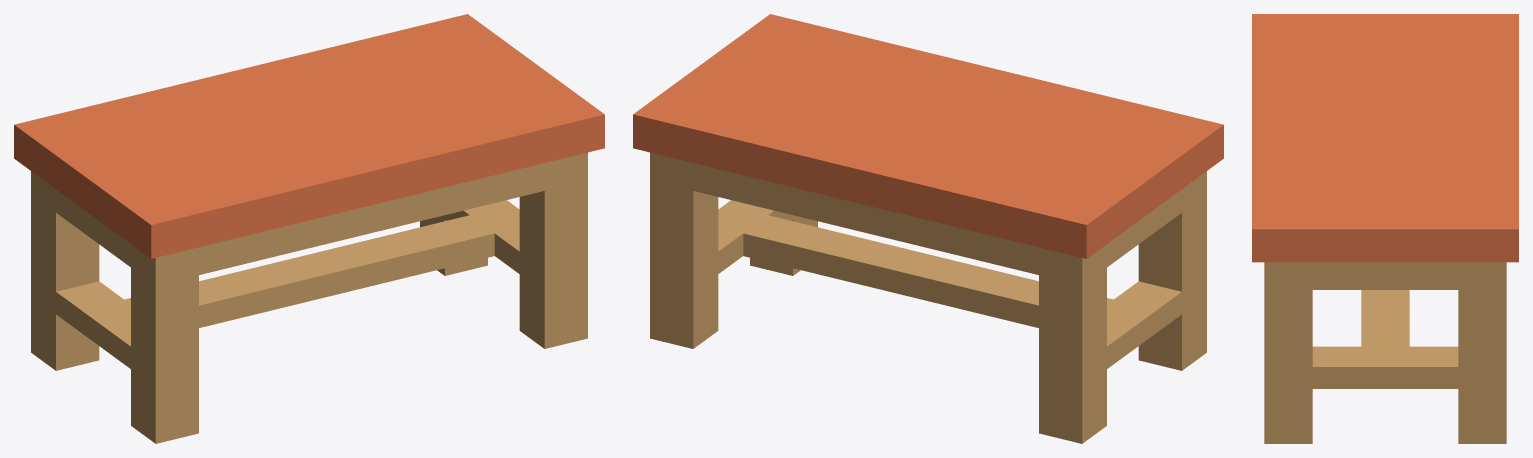
Rendered from benchCushionLow.glb.
3 renders of one model, left to right at view 1: azimuth 30°, elevation 25°; view 2: azimuth 150°, elevation 25°; view 3: azimuth 270°, elevation 25°, orthographic. The views are drawn at different scales.
Size of the model in its own units: 4.2 by 2 by 2.2.
